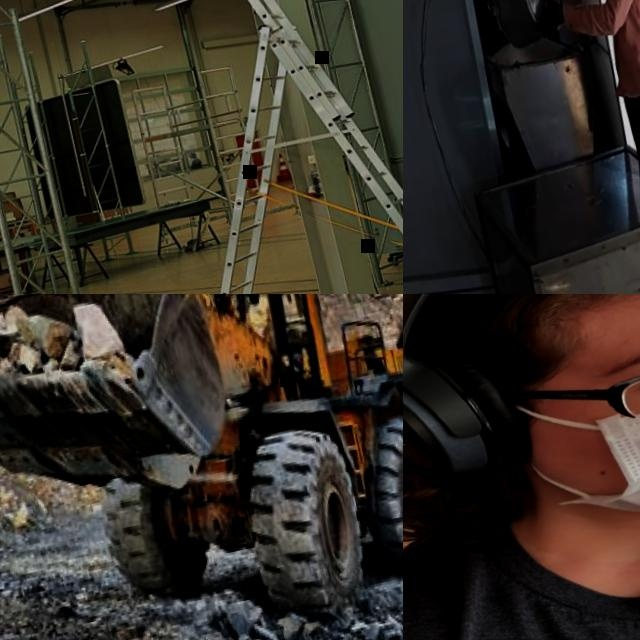Mask: (508, 345, 640, 561)
NO-Safety Vest: (403, 430, 640, 640), (578, 0, 640, 104)
Person: (403, 294, 640, 640), (496, 0, 640, 294)
machinery: (0, 294, 403, 640)
